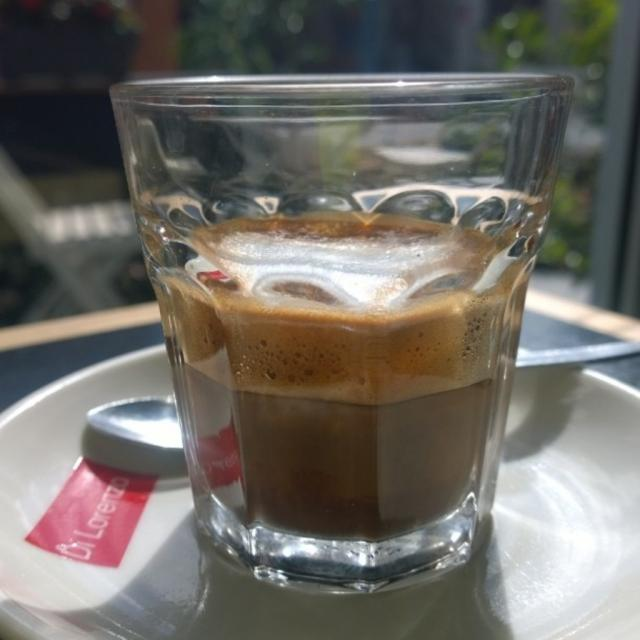Coffee: (172, 211, 514, 544)
